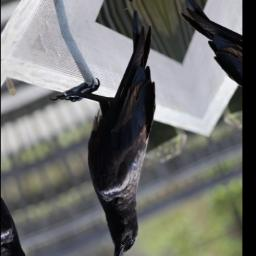Crow: (31, 6, 225, 256)
